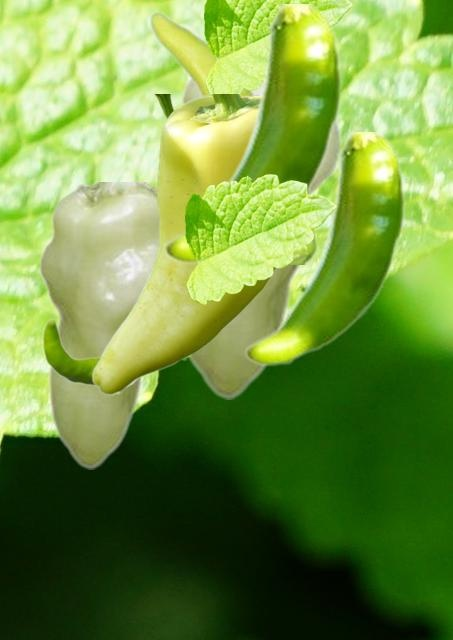green_chili: (91, 94, 313, 395), (177, 78, 340, 398), (162, 4, 342, 264), (149, 9, 315, 263), (243, 132, 405, 366), (35, 182, 157, 468), (42, 317, 137, 386)
